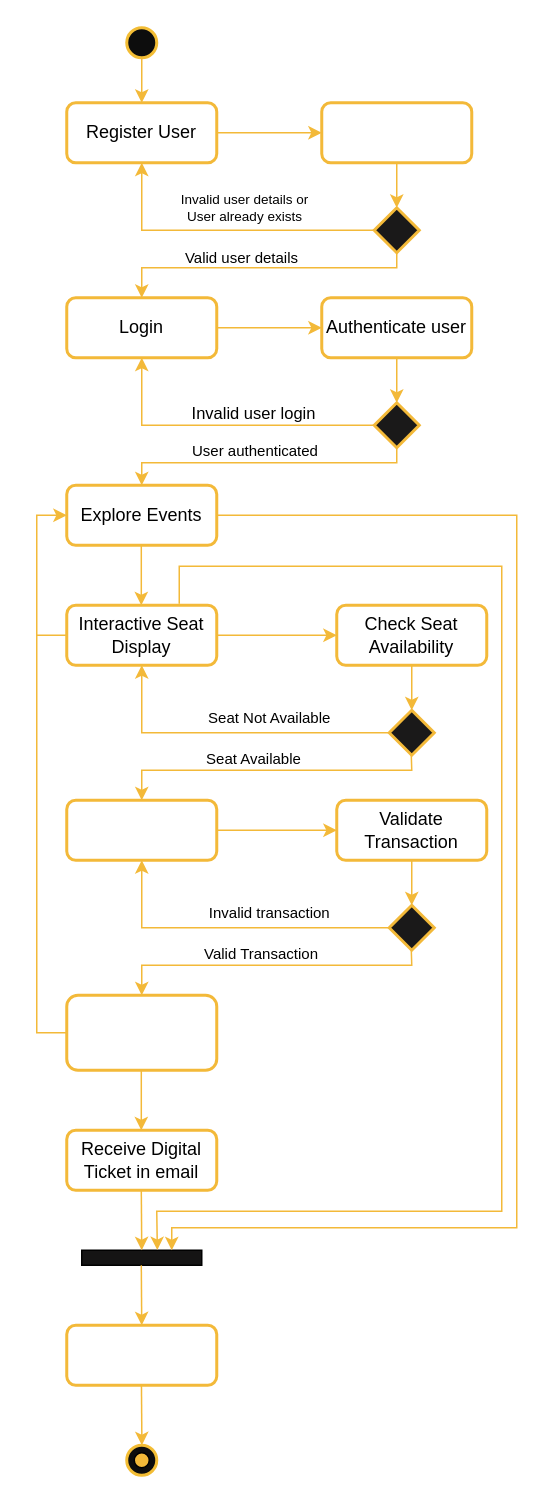
The diagram is 555 pixels wide and 1502 high, and some of its shapes have lost their labels. Each missing label, with the centre of its shape:
"Confirm reservation and send Digital Ticket" belongs at [141,1032].
"Enter Payment Details" belongs at [141,829].
"Logout" belongs at [141,1354].
"Validate user details" belongs at [396,132].
